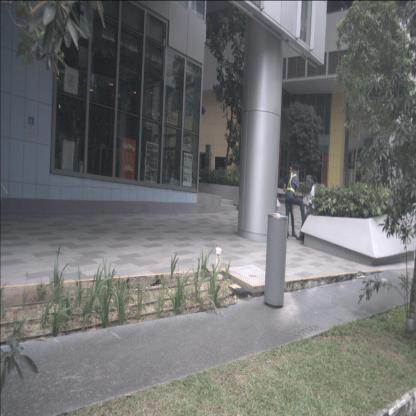human-pedestrian-adult: (284, 164, 306, 238), (296, 175, 318, 245), (283, 166, 297, 236)
